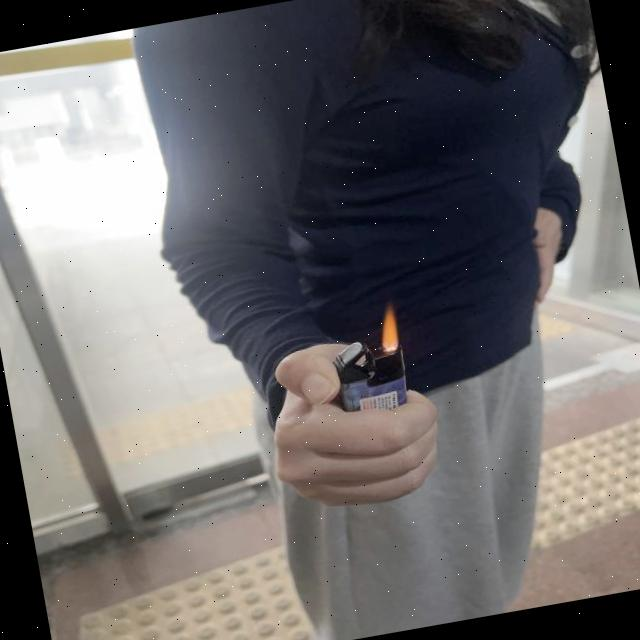fire: (374, 308, 403, 349)
